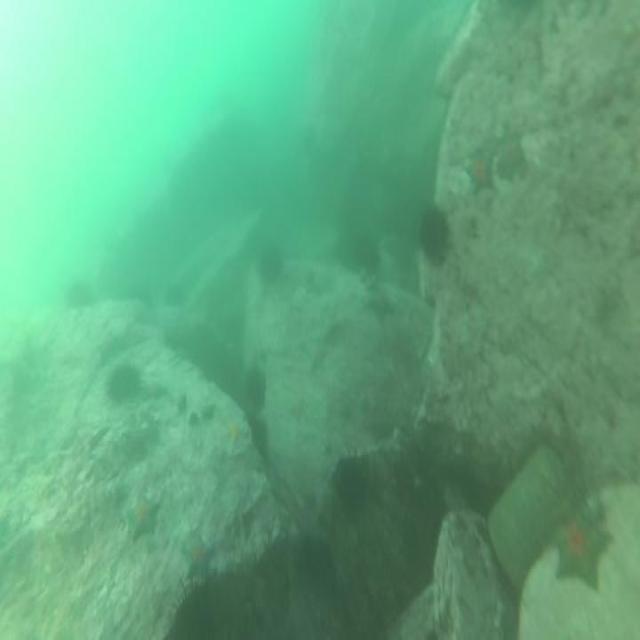echinus: (170, 578, 230, 640), (327, 449, 373, 526), (294, 529, 332, 591), (418, 200, 451, 266), (107, 359, 144, 411), (352, 231, 382, 278), (61, 276, 98, 312), (256, 245, 285, 286), (244, 365, 268, 411), (247, 414, 270, 458), (161, 278, 188, 313)
starfish: (550, 493, 615, 596), (125, 490, 164, 547), (180, 526, 217, 586), (462, 142, 496, 201), (363, 281, 398, 332), (221, 414, 248, 450)
